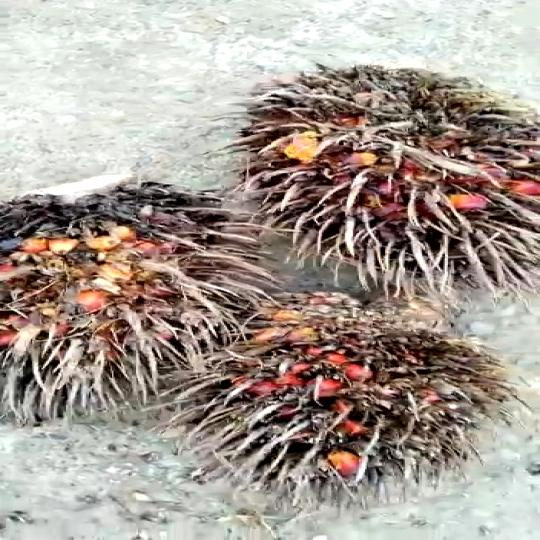terlalu masak: (224, 52, 540, 290), (0, 167, 282, 404), (180, 285, 503, 490)
